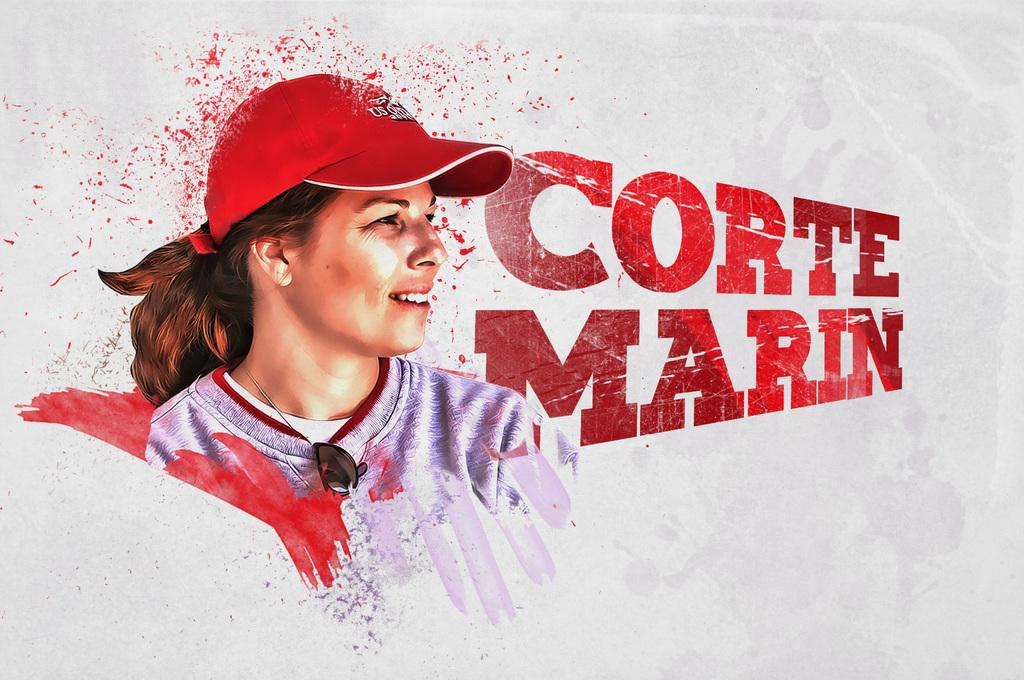Hat: (188, 72, 514, 254)
